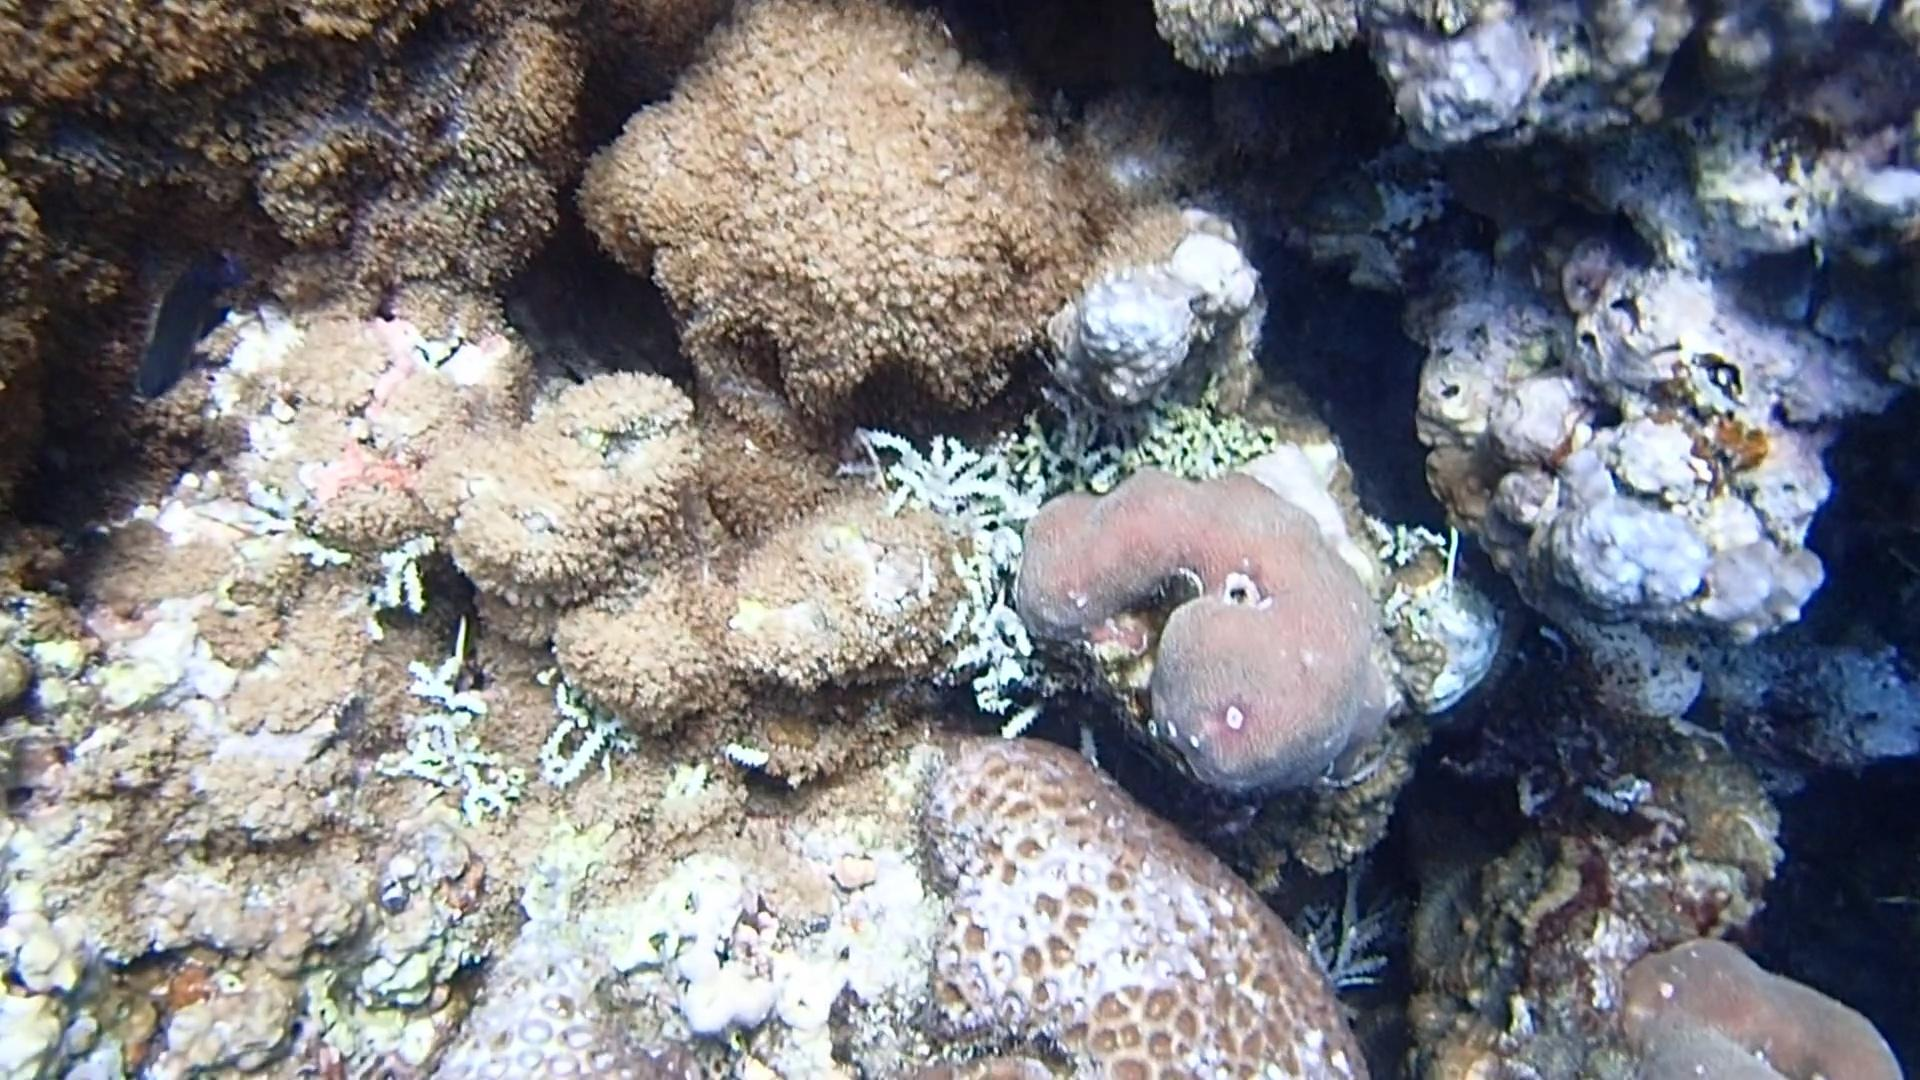Dark Fish: (123, 243, 253, 402)
